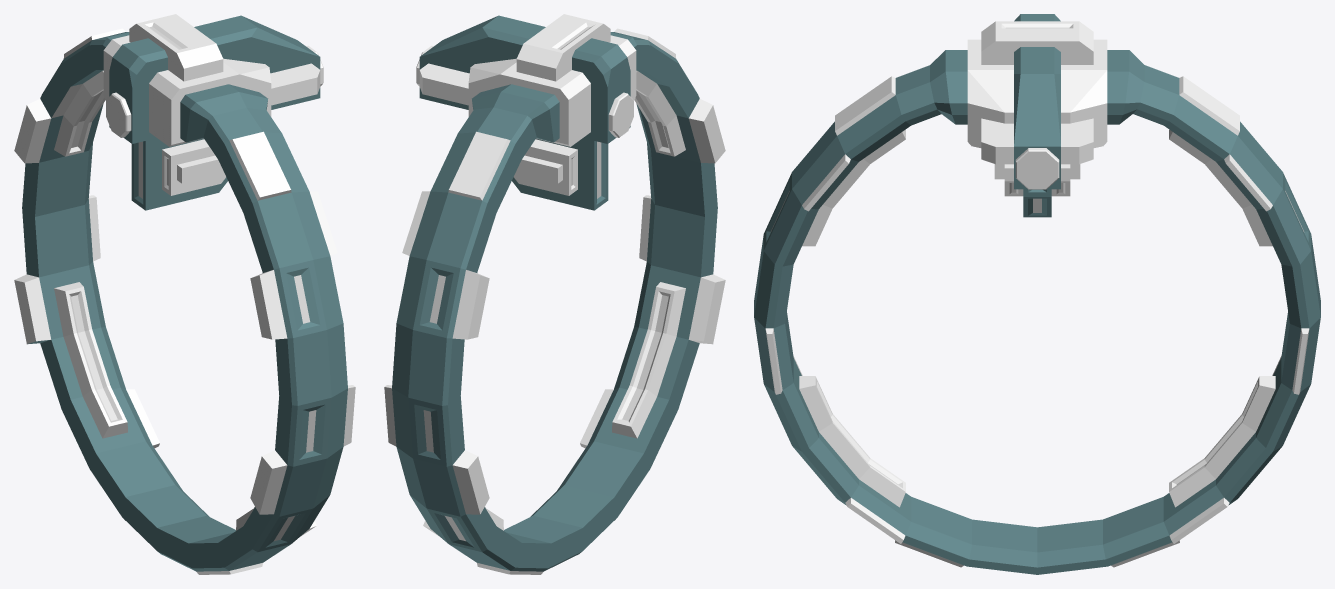
Rendered from ss_hab1.glb.
The picture shows the model from 3 angles, left to right: view 1: azimuth 30°, elevation 25°; view 2: azimuth 150°, elevation 25°; view 3: azimuth 270°, elevation 25°; orthographic projection. The views are drawn at different scales.
Parts seen in each view (by area): view 1: Cube.003; view 2: Cube.003; view 3: Cube.003.
Part boxes in pixels (box(x1,y1,x2,y2)): Cube.003: box(14, 14, 355, 574); Cube.003: box(384, 14, 725, 574); Cube.003: box(754, 14, 1320, 574).
Bounding box in the file's own units: 10 × 24.95 × 24.
